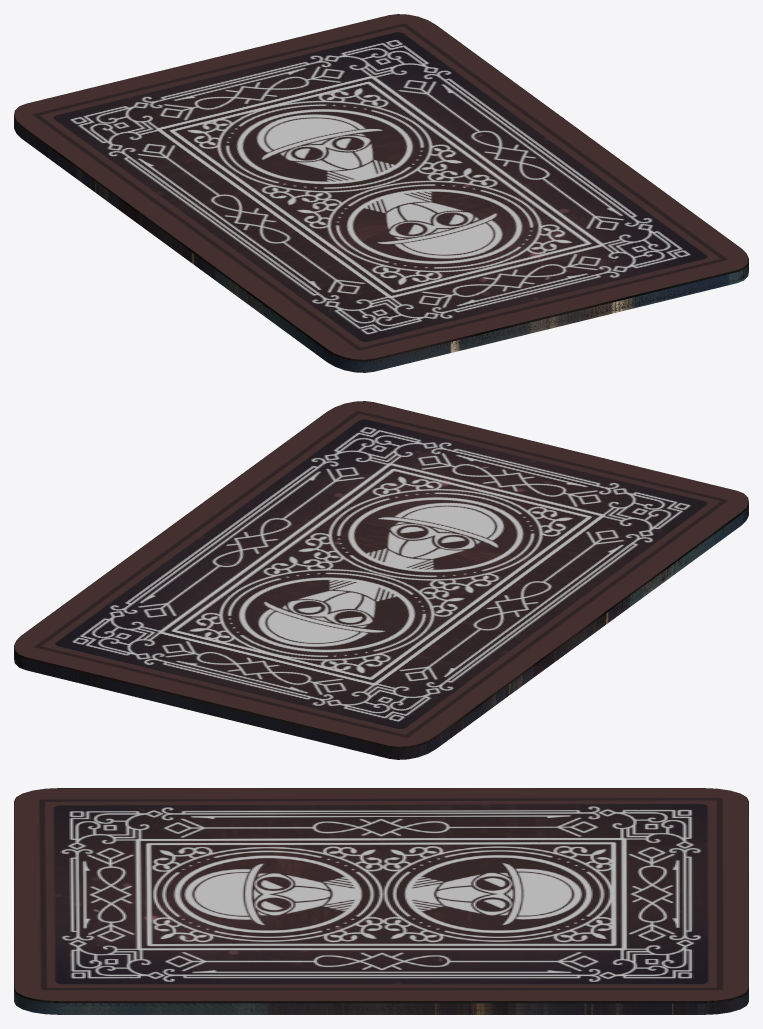
Rendered from the_world_tarot.glb.
3 views of the same model, one above another, from view 1: azimuth 30°, elevation 25°; view 2: azimuth 150°, elevation 25°; view 3: azimuth 270°, elevation 25° (orthographic). The views are drawn at different scales.
Visible parts, largest first — view 1: Plane.002, Plane.001; view 2: Plane.002, Plane.001; view 3: Plane.002, Plane.001.
Part boxes in pixels (box(x1,y1,x2,y2)): Plane.002: box(14, 14, 748, 370); Plane.001: box(14, 118, 748, 372); Plane.002: box(14, 401, 748, 756); Plane.001: box(14, 505, 748, 759); Plane.002: box(14, 788, 748, 1012); Plane.001: box(14, 990, 748, 1014).
Size of the model in its own units: 2.28 by 0.0684 by 3.32.
Materials: 2 (2 with a texture image).
